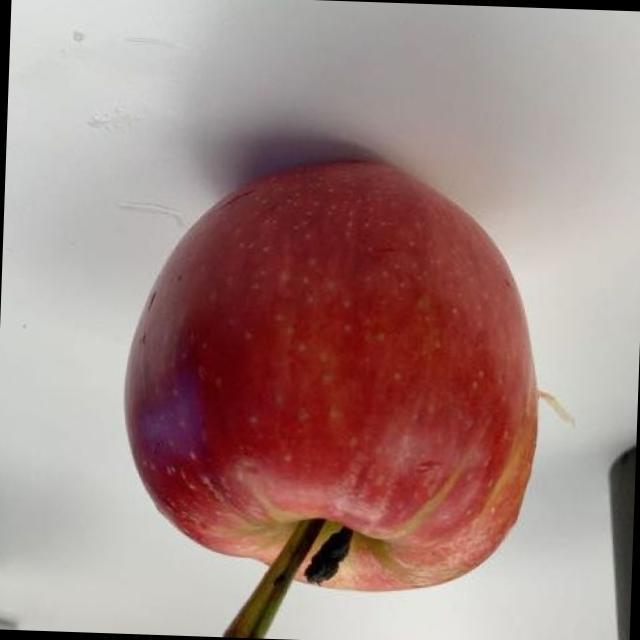Apple: (109, 136, 563, 640)
